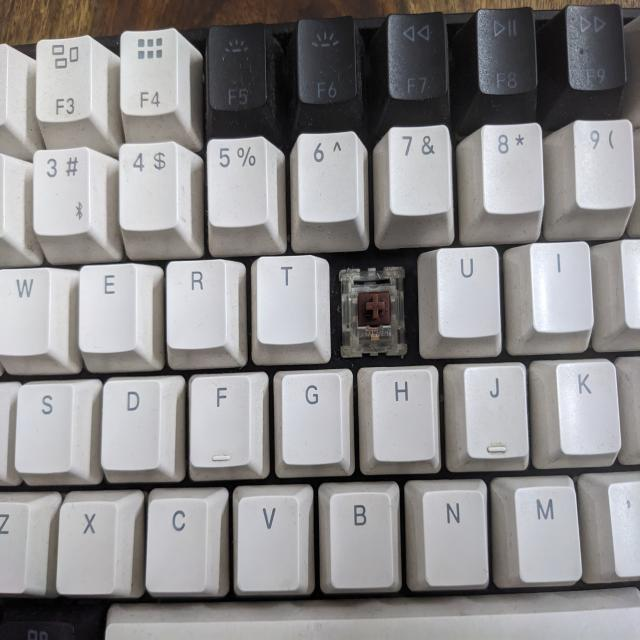C: (341, 267, 408, 353)
